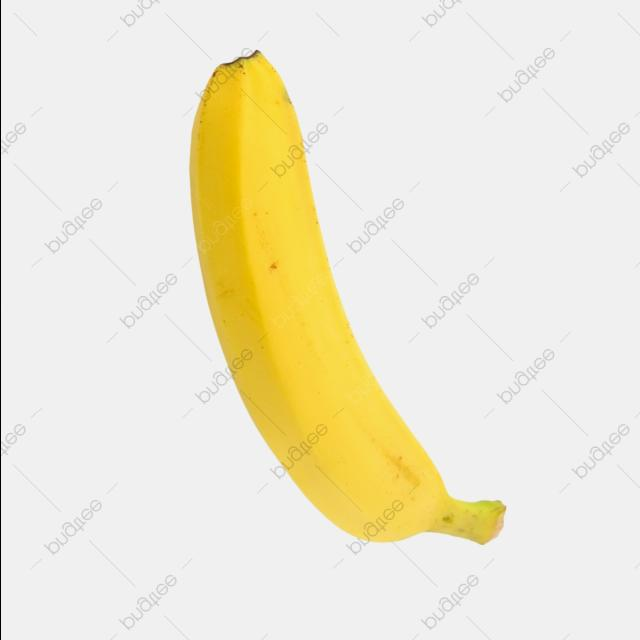non_orange: (185, 49, 513, 552)
